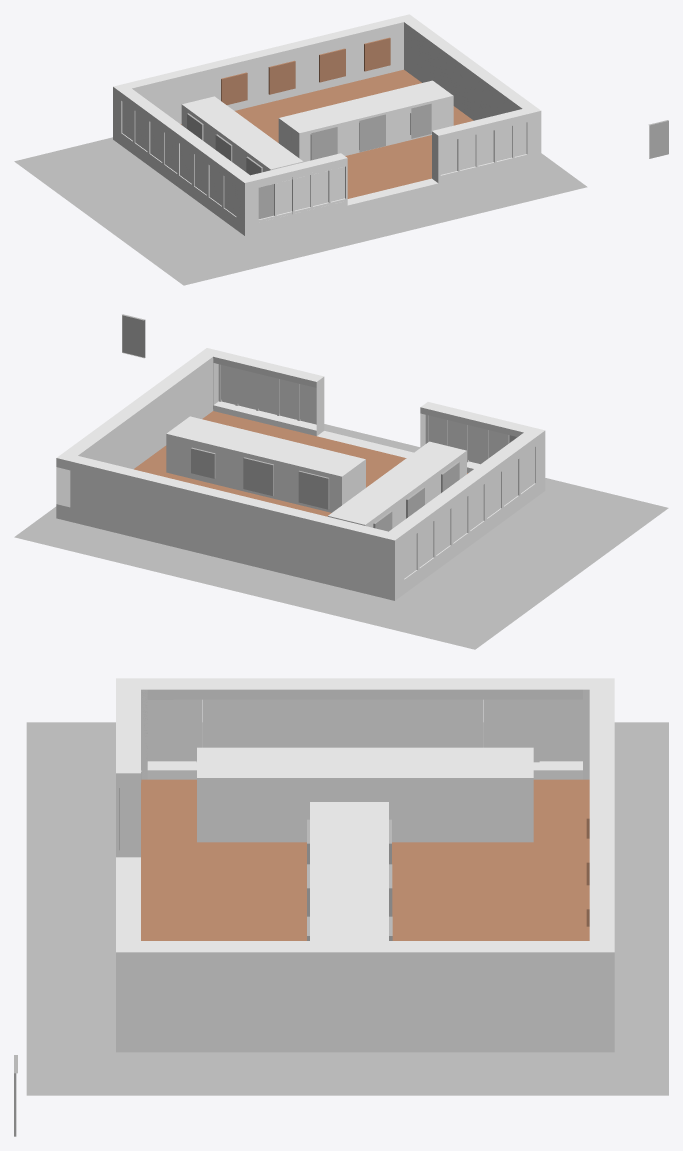
The model's file is grafkom (1).obj.
The picture shows the model from 3 angles, top to bottom: view 1: azimuth 30°, elevation 25°; view 2: azimuth 150°, elevation 25°; view 3: azimuth 270°, elevation 25°; orthographic projection. The views are drawn at different scales.
Parts seen in each view (by area): view 1: Cube, Plane, Cube.010, Scream, Cube.001, Cube.002, Cube.004, Cube.003, Vermeer_-_The_Milkmaid_1658, Cube.013, Johannes_Vermeer_(1632-1675)_-_The_Girl_With_The_Pearl_Earring_, Cube.020 (+15 smaller); view 2: Cube, Plane, Cube.010, Cube.017, Cube.018, Cube.013, Cube.022, Cube.021, Cube.023, Cube.019, Cube.027, Cube.020 (+9 smaller); view 3: Cube, Plane, Cube.010, Cube.030, Cube.037, Cube.031, Cube.034, Cube.035, Cube.036, Cube.032, Cube.033.
Part boxes in pixels (<box>): Cube: <box>113,14,541,235</box>; Plane: <box>14,137,587,285</box>; Cube.010: <box>180,69,473,198</box>; Scream: <box>359,114,385,152</box>; Cube.001: <box>268,60,295,94</box>; Cube.002: <box>319,48,345,82</box>; Cube.004: <box>364,37,390,71</box>; Cube.003: <box>221,72,247,104</box>; Vermeer_-_The_Milkmaid_1658: <box>311,127,337,160</box>; Cube.013: <box>648,120,668,158</box>; Johannes_Vermeer_(1632-1675)_-_The_Girl_With_The_Pearl_Earring_: <box>411,103,431,138</box>; Cube.020: <box>440,139,457,174</box>; Cube: <box>56,348,545,600</box>; Plane: <box>14,424,668,649</box>; Cube.010: <box>134,411,467,516</box>; Cube.017: <box>298,470,329,509</box>; Cube.018: <box>243,457,273,495</box>; Cube.013: <box>122,314,145,358</box>; Cube.022: <box>258,374,276,412</box>; Cube.021: <box>279,379,297,417</box>; Cube.023: <box>237,369,255,407</box>; Cube.019: <box>191,447,215,478</box>; Cube.027: <box>468,425,486,462</box>; Cube.020: <box>300,384,316,422</box>; Cube: <box>116,678,614,1052</box>; Plane: <box>26,722,668,1095</box>; Cube.010: <box>141,779,589,940</box>; Cube.030: <box>147,699,196,756</box>; Cube.037: <box>539,699,582,756</box>; Cube.031: <box>203,699,252,747</box>; Cube.034: <box>371,699,420,747</box>; Cube.035: <box>427,699,476,747</box>; Cube.036: <box>484,699,533,747</box>; Cube.032: <box>260,699,308,747</box>; Cube.033: <box>317,699,364,747</box>.
Bounding box in the file's own units: 37.13 × 4.76 × 23.1.
